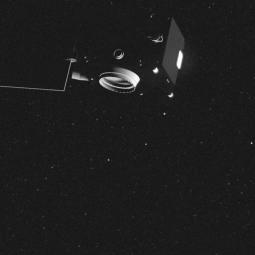proba_3_csc: (0, 10, 202, 111)
